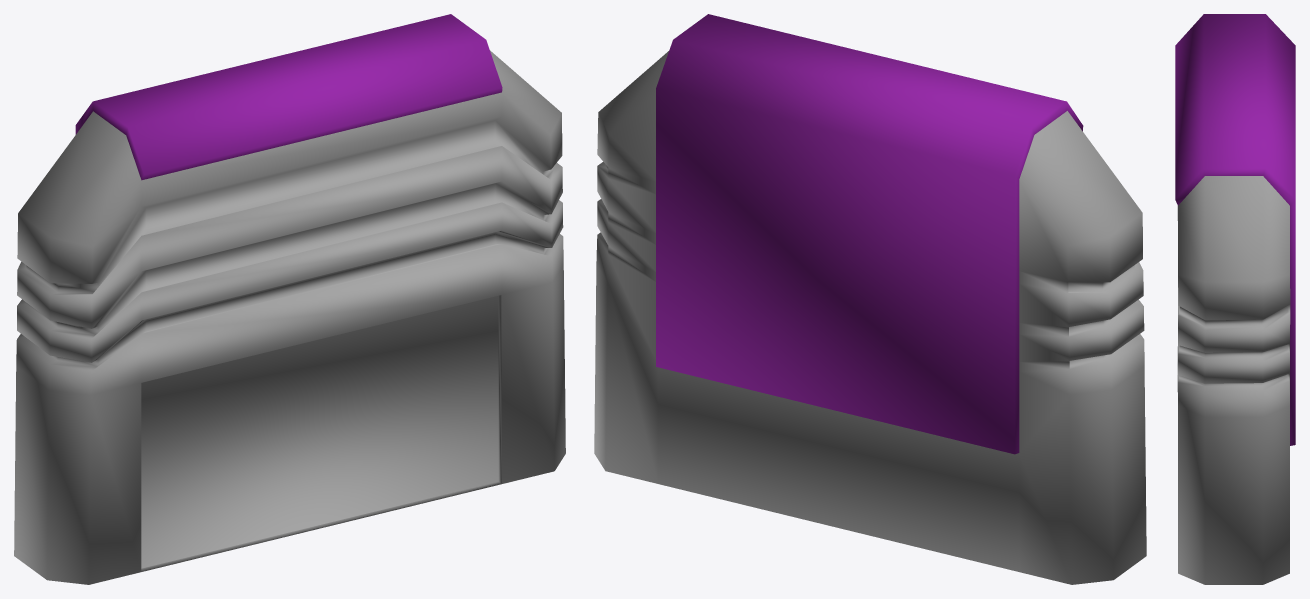
File: props_cartridge.fbx
The picture shows the model from 3 angles, left to right: view 1: azimuth 30°, elevation 25°; view 2: azimuth 150°, elevation 25°; view 3: azimuth 270°, elevation 25°; orthographic projection. The views are drawn at different scales.
Visible parts, largest first — view 1: props_cartridge; view 2: props_cartridge; view 3: props_cartridge.
Boxes of the visible parts, box(x1,y1,x2,y2) form: props_cartridge: box(14, 14, 565, 584); props_cartridge: box(594, 14, 1146, 584); props_cartridge: box(1175, 14, 1295, 584).
Size of the model in its own units: 0.3329 by 0.0761 by 0.2721.
